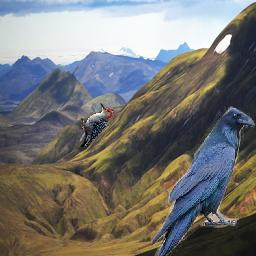Crow: (151, 106, 255, 256)
Woodpecker: (80, 103, 114, 147)
